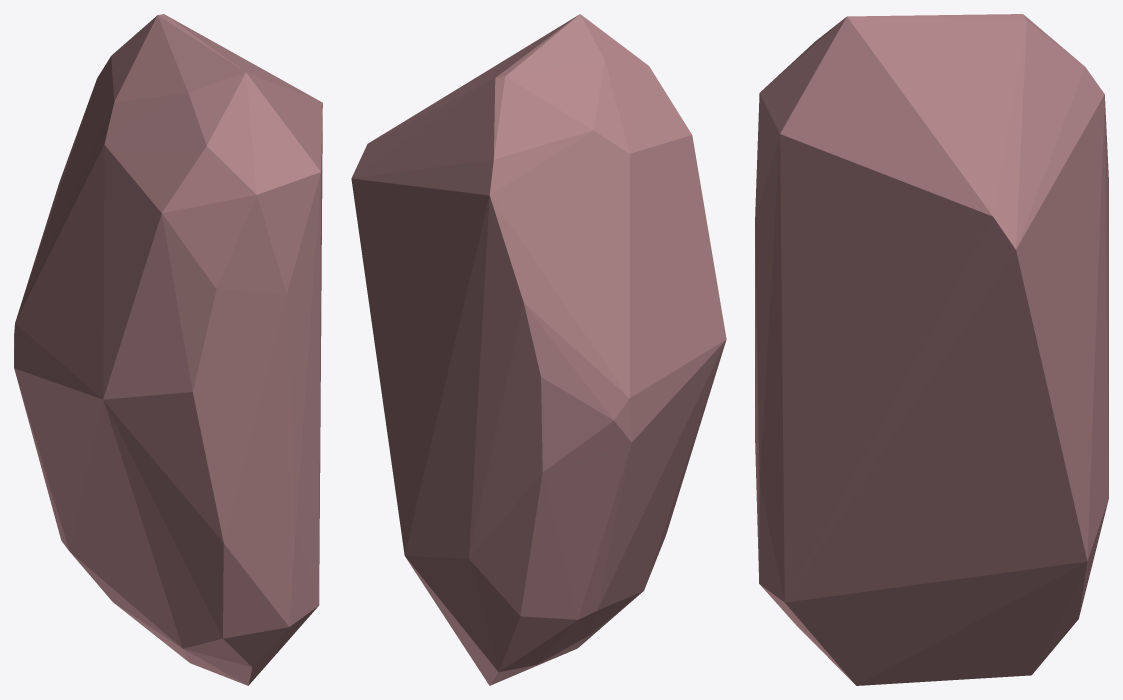
The model's file is brakeSystem_caliper_b01.glb.
3 renders of one model, left to right at view 1: azimuth 30°, elevation 25°; view 2: azimuth 150°, elevation 25°; view 3: azimuth 270°, elevation 25°, orthographic. The views are drawn at different scales.
Parts seen in each view (by area): view 1: geometry_0; view 2: geometry_0; view 3: geometry_0.
Boxes of the visible parts, bbox=[...] form: geometry_0: bbox=[14, 14, 322, 685]; geometry_0: bbox=[351, 14, 726, 685]; geometry_0: bbox=[755, 14, 1108, 685].
Bounding box in the file's own units: 0.2389 × 0.4792 × 0.2308.
